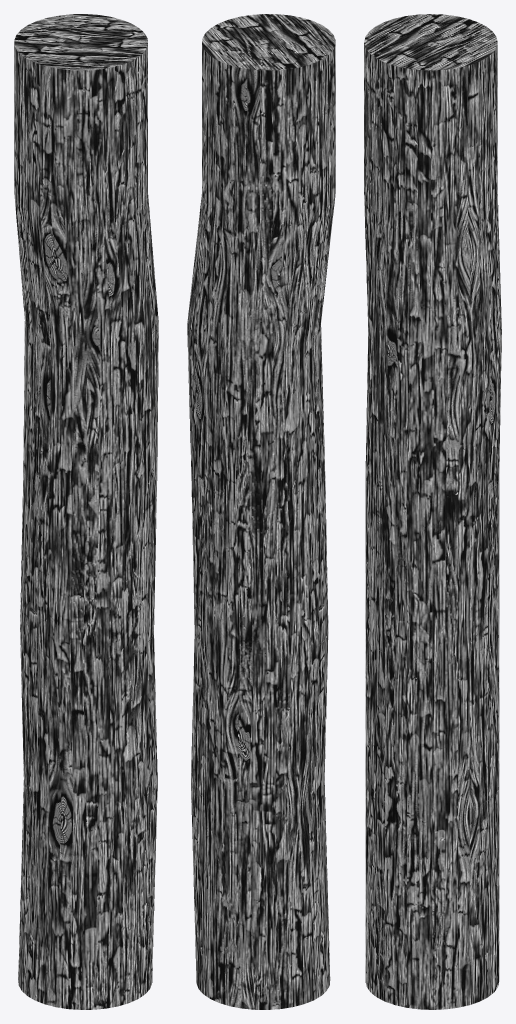
Rendered from longLog-transformed.glb.
3 views of the same model, side by side, from view 1: azimuth 30°, elevation 25°; view 2: azimuth 150°, elevation 25°; view 3: azimuth 270°, elevation 25° (orthographic).
Visible parts, largest first — view 1: Cylinder.002; view 2: Cylinder.002; view 3: Cylinder.002.
Part boxes in pixels (x1=…): Cylinder.002: x1=14, y1=14, x2=158, y2=1009; Cylinder.002: x1=187, y1=14, x2=335, y2=1009; Cylinder.002: x1=364, y1=14, x2=501, y2=1009.
Bounding box in the file's own units: 0.557 × 3.89 × 0.5179.
Materials: 1 (1 with a texture image).
